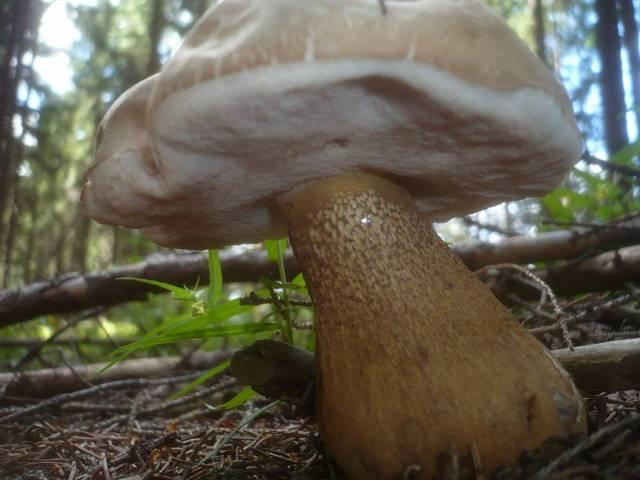poisonous_mushroom: (78, 0, 590, 478)
